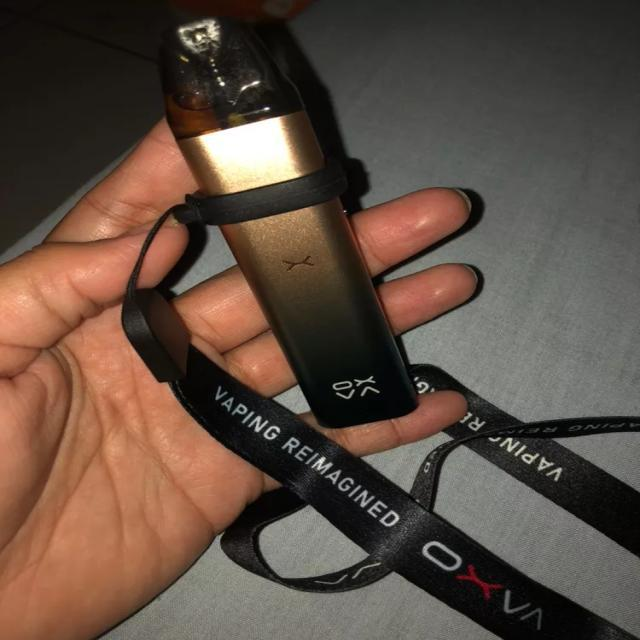Hazard: (158, 16, 424, 430)
